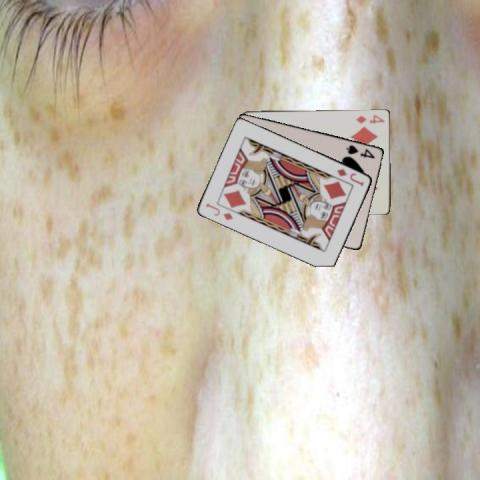4d: (354, 112, 386, 125)
4s: (343, 142, 376, 160)
Jd: (334, 165, 365, 188), (203, 200, 235, 222)
